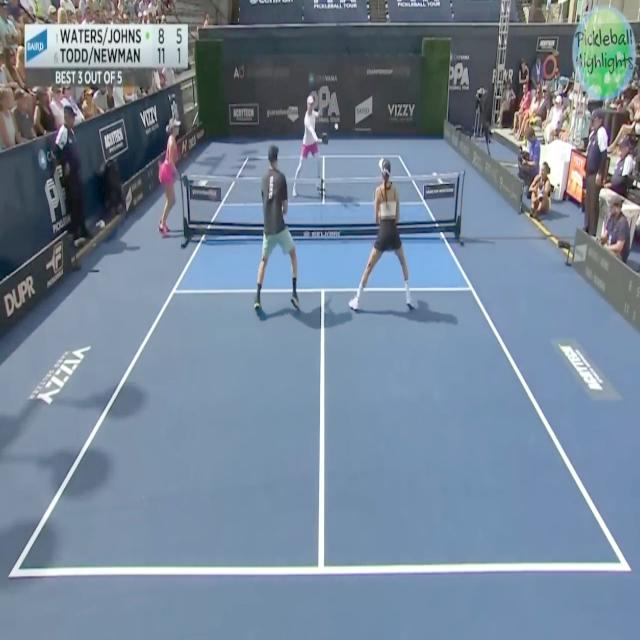Pickleball: (333, 122, 341, 131)
